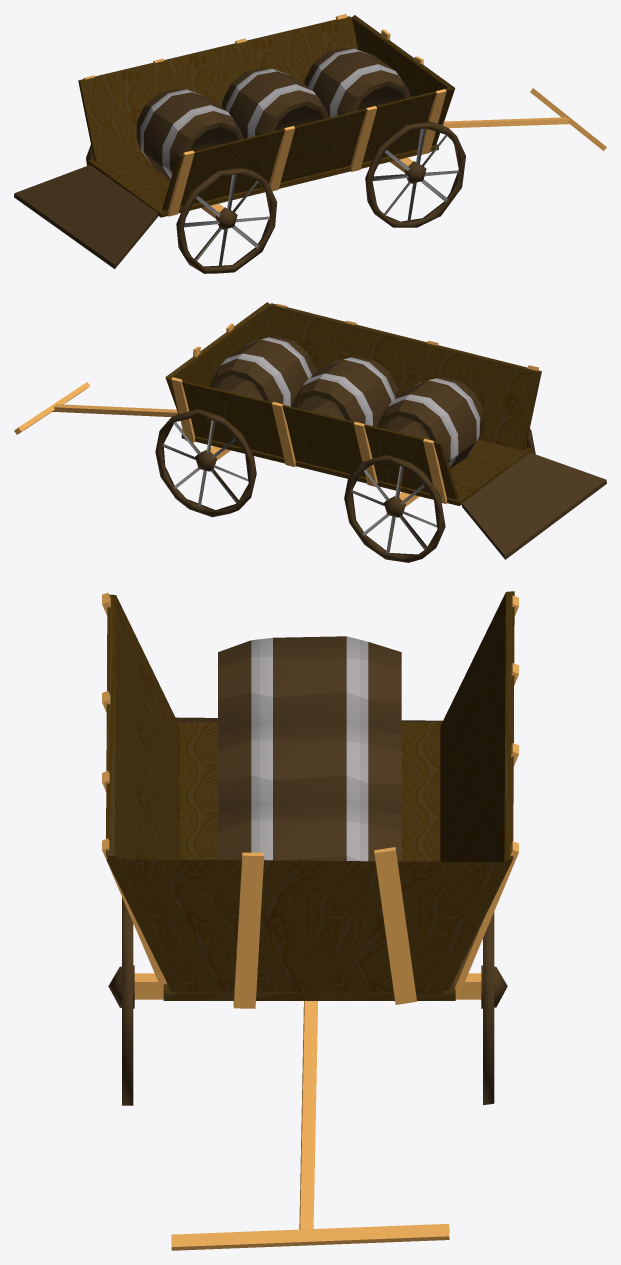
Rendered from woz.obj.
The picture shows the model from 3 angles, top to bottom: view 1: azimuth 30°, elevation 25°; view 2: azimuth 150°, elevation 25°; view 3: azimuth 270°, elevation 25°; orthographic projection. The views are drawn at different scales.
Parts seen in each view (by area): view 1: Cube.002, Circle.002_Circle.006, Cube.022_Cube.035, Barril_Abierto_object3.003_Barril_Abierto_object3.005, Barril_Abierto_object3.001_Barril_Abierto_object3.004, Barril_Abierto_object3.002_Barril_Abierto_object3.003, Cube.016_Cube.027, Cube.006; view 2: Cube.002, Cube.022_Cube.035, Circle.002_Circle.006, Barril_Abierto_object3.003_Barril_Abierto_object3.005, Barril_Abierto_object3.001_Barril_Abierto_object3.004, Barril_Abierto_object3.002_Barril_Abierto_object3.003, Cube.016_Cube.027, Cube.006; view 3: Cube.002, Barril_Abierto_object3.003_Barril_Abierto_object3.005, Barril_Abierto_object3.001_Barril_Abierto_object3.004, Barril_Abierto_object3.002_Barril_Abierto_object3.003, Cube.016_Cube.027, Cube.006, Circle.002_Circle.006.
Boxes of the visible parts, <box> form: Cube.002: <box>78,15,455,217</box>; Circle.002_Circle.006: <box>86,121,465,273</box>; Cube.022_Cube.035: <box>14,165,158,268</box>; Barril_Abierto_object3.003_Barril_Abierto_object3.005: <box>136,88,243,180</box>; Barril_Abierto_object3.001_Barril_Abierto_object3.004: <box>222,68,329,138</box>; Barril_Abierto_object3.002_Barril_Abierto_object3.003: <box>304,48,411,117</box>; Cube.016_Cube.027: <box>83,14,446,216</box>; Cube.006: <box>201,88,606,218</box>; Cube.002: <box>165,302,541,505</box>; Cube.022_Cube.035: <box>462,452,606,559</box>; Circle.002_Circle.006: <box>155,409,535,562</box>; Barril_Abierto_object3.003_Barril_Abierto_object3.005: <box>377,377,483,468</box>; Barril_Abierto_object3.001_Barril_Abierto_object3.004: <box>291,356,398,426</box>; Barril_Abierto_object3.002_Barril_Abierto_object3.003: <box>209,336,316,406</box>; Cube.016_Cube.027: <box>171,304,539,503</box>; Cube.006: <box>14,382,419,506</box>; Cube.002: <box>106,591,514,1000</box>; Barril_Abierto_object3.003_Barril_Abierto_object3.005: <box>218,636,401,735</box>; Barril_Abierto_object3.001_Barril_Abierto_object3.004: <box>218,719,401,815</box>; Barril_Abierto_object3.002_Barril_Abierto_object3.003: <box>218,799,401,861</box>; Cube.016_Cube.027: <box>102,592,518,1008</box>; Cube.006: <box>134,973,481,1250</box>; Circle.002_Circle.006: <box>108,897,507,1105</box>.
Size of the model in its own units: 166 by 43.68 by 59.12.
Materials: 3 (3 with a texture image).
